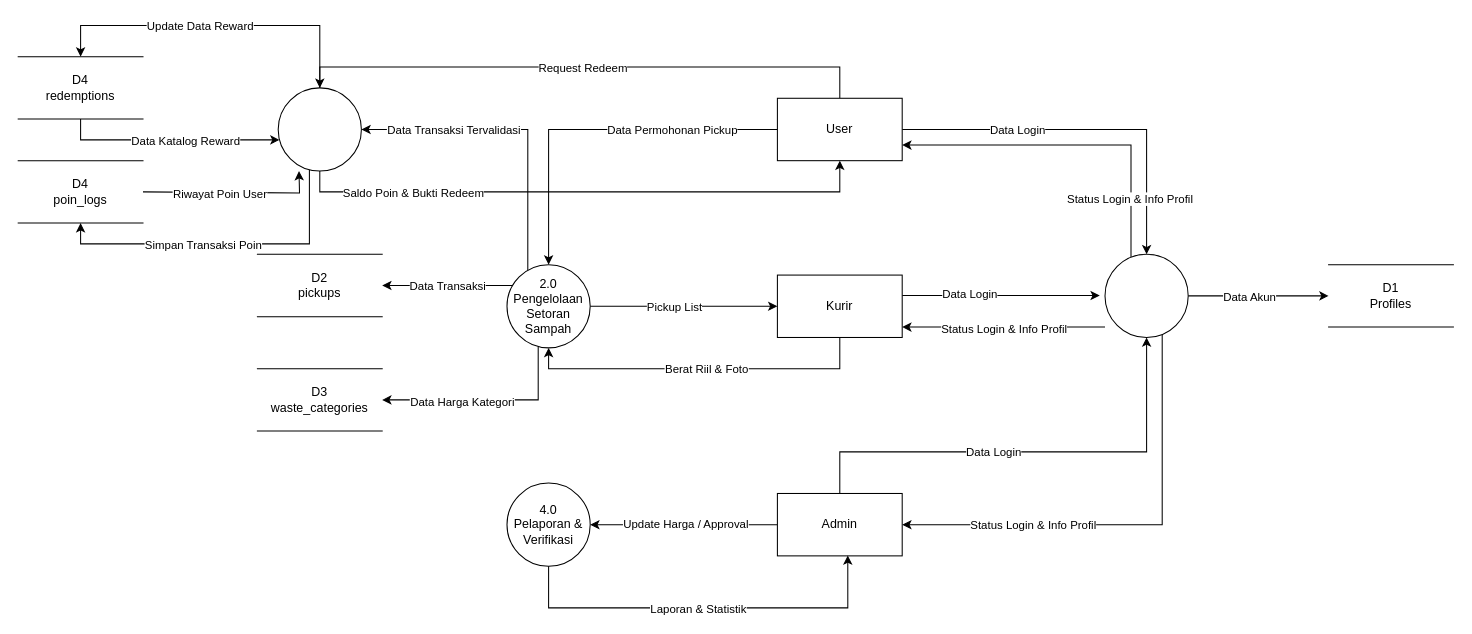
Some shapes in this 1472 by 634 pixel diagram are drawn without their labels. Here are the shapes that lost their labels. From the top down, the box of each, then its label:
(277, 87, 361, 171): 3.0 Manajemen Poin & Reward
(1104, 253, 1188, 337): 1.0 Manajemen Akun & Autentikasi
